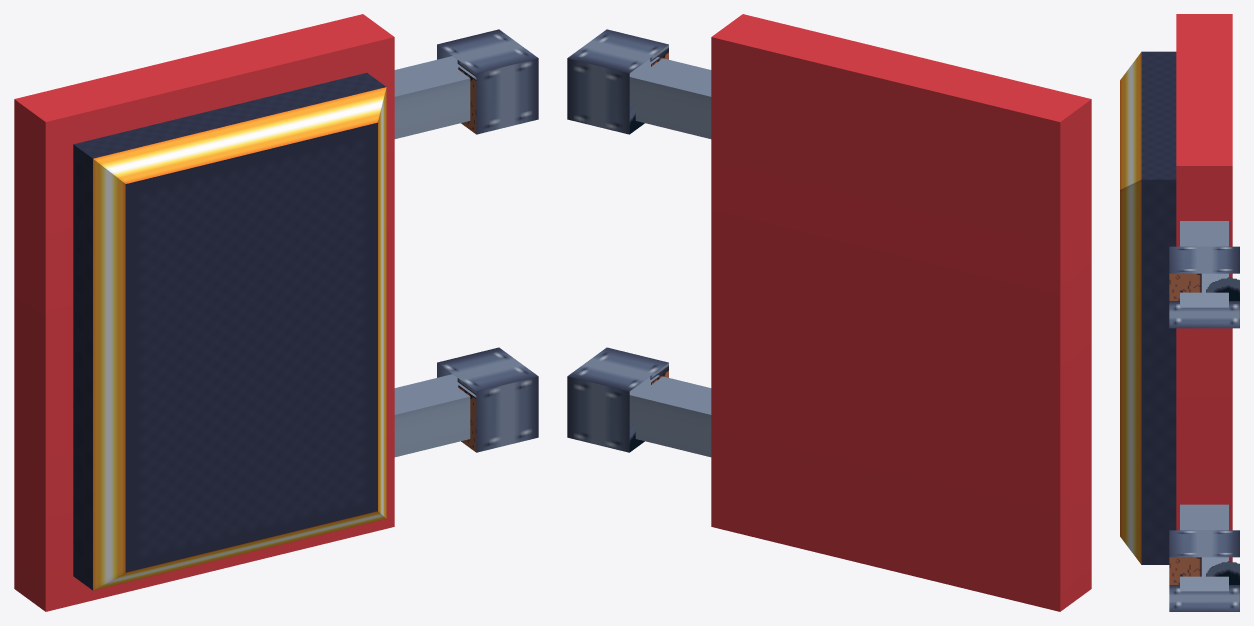
The model's file is Letreiro Lateral.v1.fbx.
3 views of the same model, side by side, from view 1: azimuth 30°, elevation 25°; view 2: azimuth 150°, elevation 25°; view 3: azimuth 270°, elevation 25° (orthographic). The views are drawn at different scales.
Parts seen in each view (by area): view 1: Letreiro Lateral; view 2: Letreiro Lateral; view 3: Letreiro Lateral.
Boxes of the visible parts, x1,y1,x2,y2 form: Letreiro Lateral: (14,14,538,611); Letreiro Lateral: (567,14,1091,611); Letreiro Lateral: (1120,14,1239,611).
Bounding box in the file's own units: 149 × 35.41 × 143.
